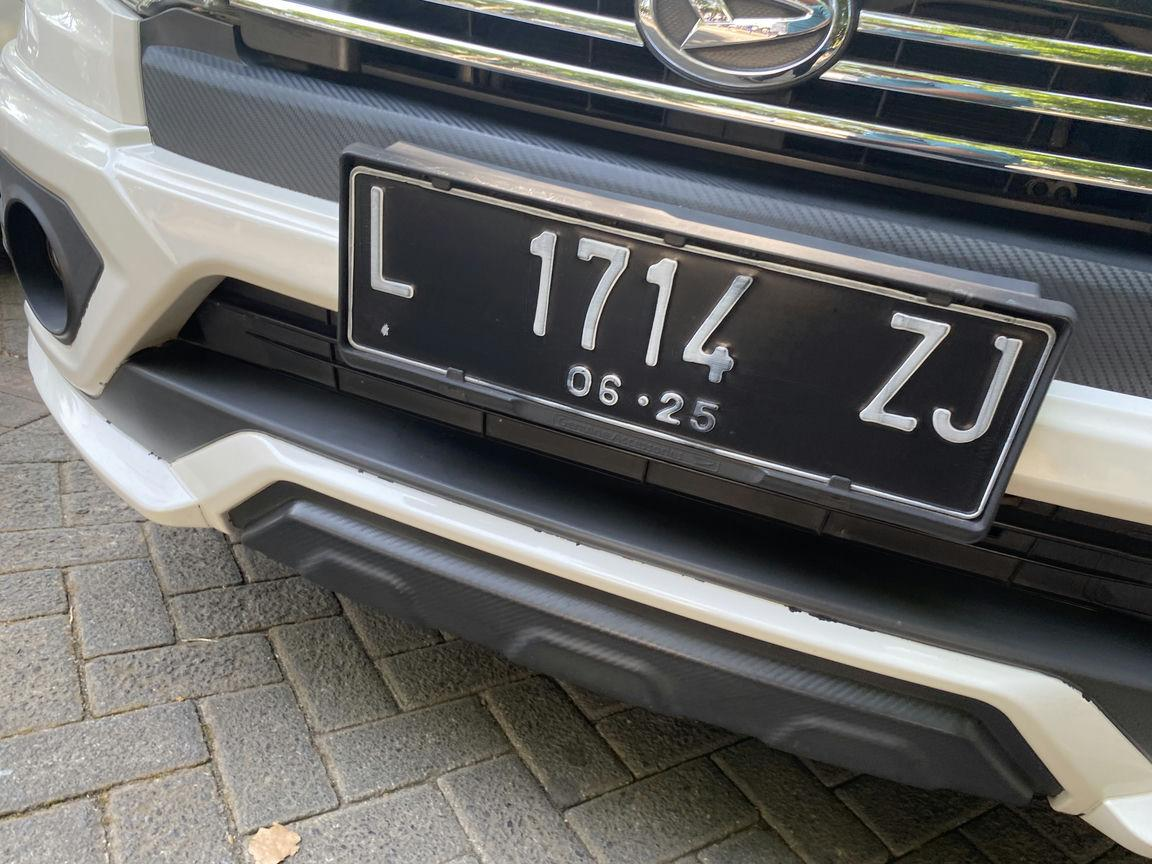plat: (342, 146, 1073, 540)
